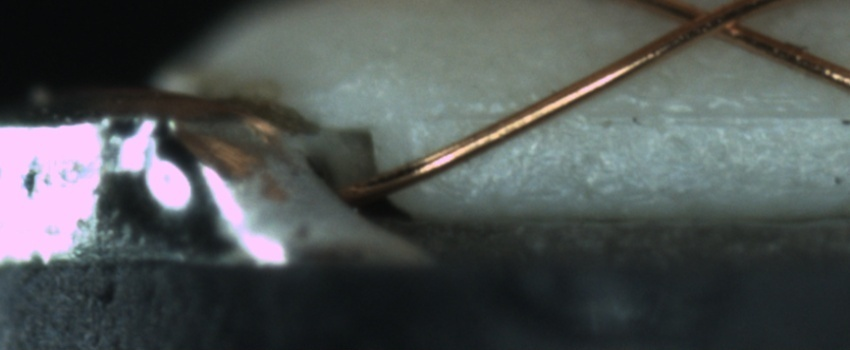CL: (662, 2, 766, 44)
DL: (421, 84, 849, 150)
